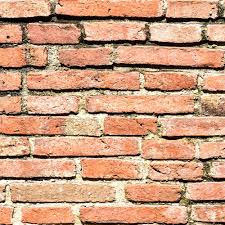brick: (11, 181, 115, 204), (117, 46, 225, 68), (26, 70, 139, 91), (33, 137, 140, 158), (80, 204, 189, 223), (86, 95, 195, 113), (1, 115, 98, 134), (55, 1, 164, 17), (1, 158, 75, 178), (81, 158, 142, 179), (162, 115, 225, 135), (83, 23, 147, 42), (1, 46, 50, 70), (19, 205, 80, 224), (27, 23, 81, 44), (149, 160, 204, 180), (142, 138, 196, 158), (143, 70, 199, 89), (126, 183, 181, 202), (56, 46, 113, 64), (149, 24, 202, 43), (166, 1, 217, 20), (28, 95, 78, 114), (1, 1, 53, 19), (104, 116, 156, 134), (191, 204, 224, 224), (196, 138, 225, 157), (186, 184, 225, 198), (1, 136, 28, 154), (1, 70, 24, 91), (200, 96, 225, 113), (1, 24, 23, 43), (1, 95, 23, 113), (206, 23, 225, 42), (209, 161, 225, 177), (202, 77, 225, 88)
